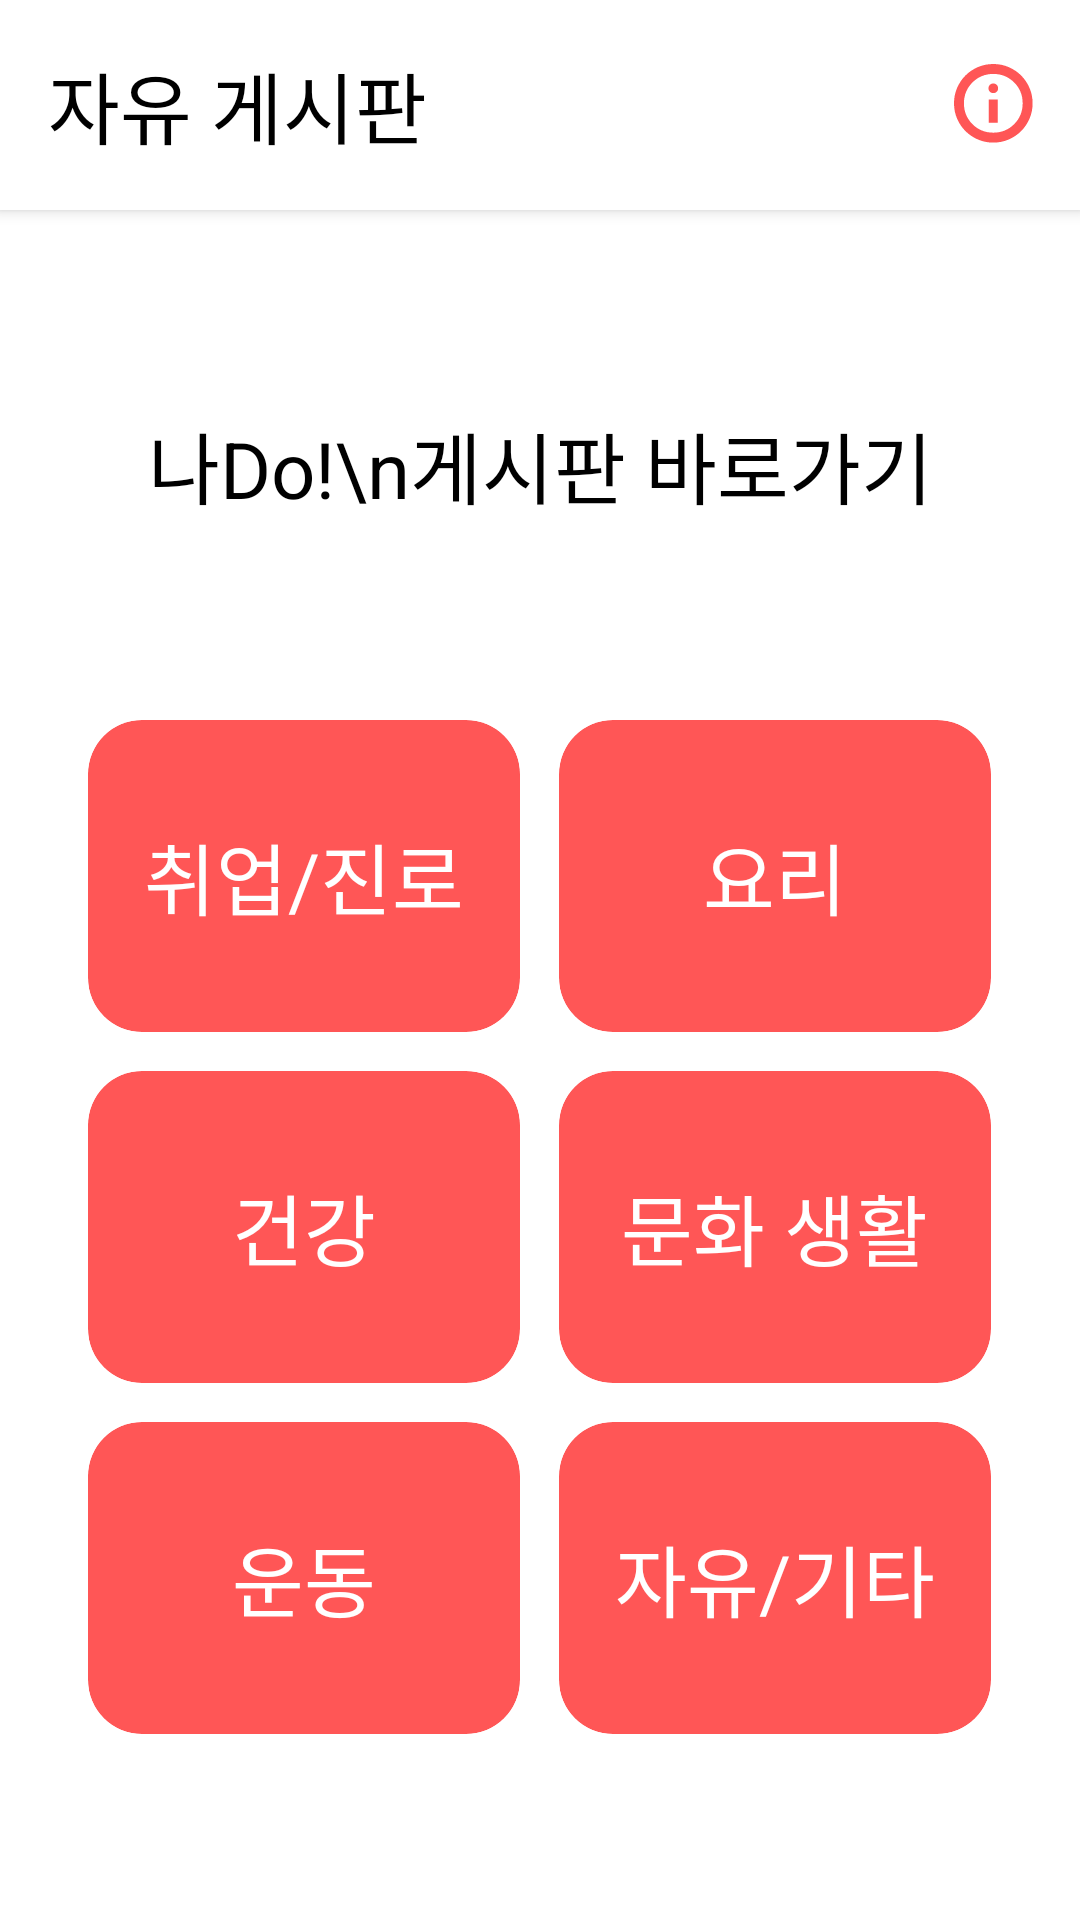

Icon bounding boxes for this 1080px x 1920px phone screenshot, format (x1, y1, x2, y2):
info: (954, 64, 1033, 143)
